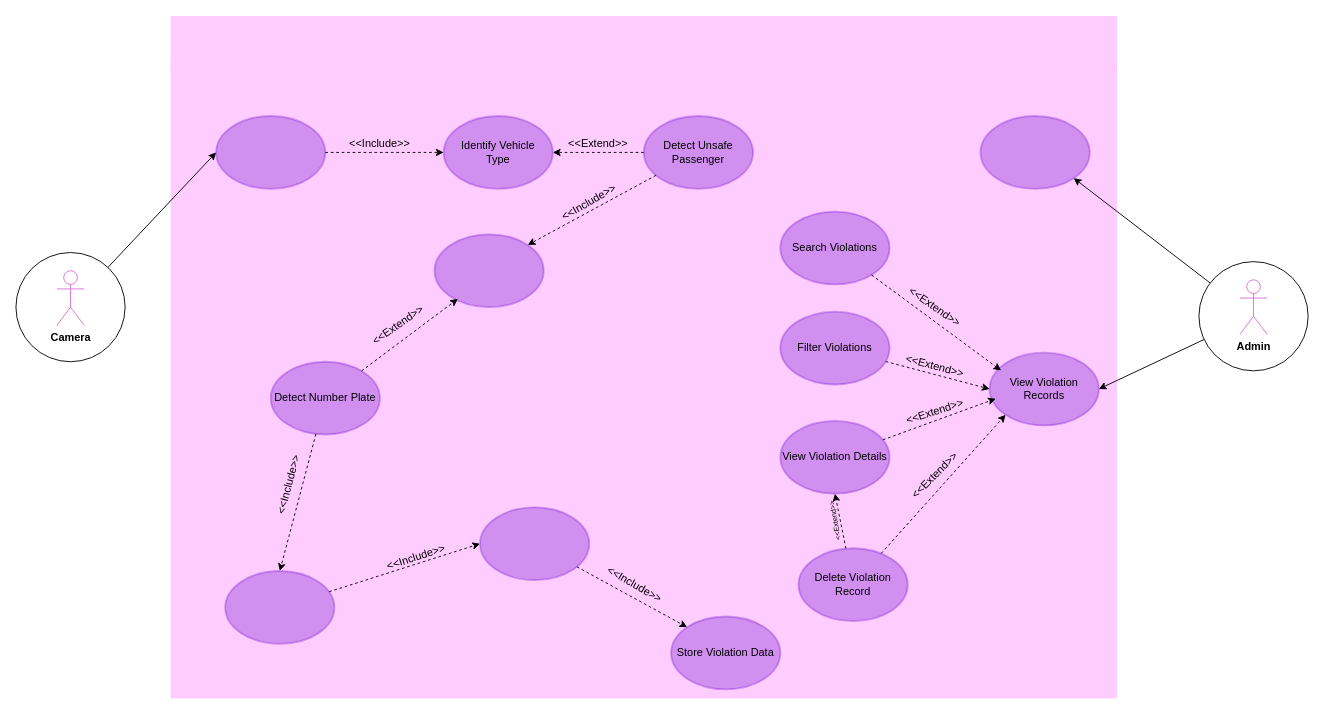
Image size: 1324x713. Some labels were removed from this diagram. The shapes that lost their labels are listed below. From the top down, each one's box as (x1, y1, x2, y2) in pixels, then its label:
(170, 15, 1117, 70): Overcrowded Vehicle Detection System
(215, 115, 326, 189): Capture Real-Time Video Feed
(979, 115, 1090, 189): Login
(433, 233, 544, 308): Person Counting
(479, 506, 590, 581): Transmit Violation Data
(224, 570, 335, 644): Capture Violation Data
